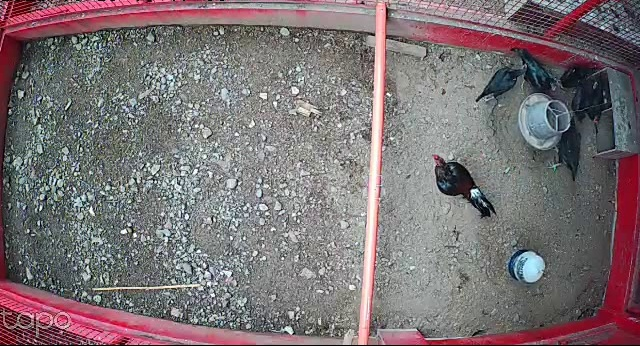Chicken: (544, 112, 589, 186), (507, 43, 557, 94), (474, 64, 532, 105), (587, 78, 610, 127), (553, 65, 591, 88), (570, 79, 591, 118)
Drinker: (508, 248, 548, 285)
Feeder: (518, 89, 571, 151)
Rooster: (427, 150, 499, 220)
